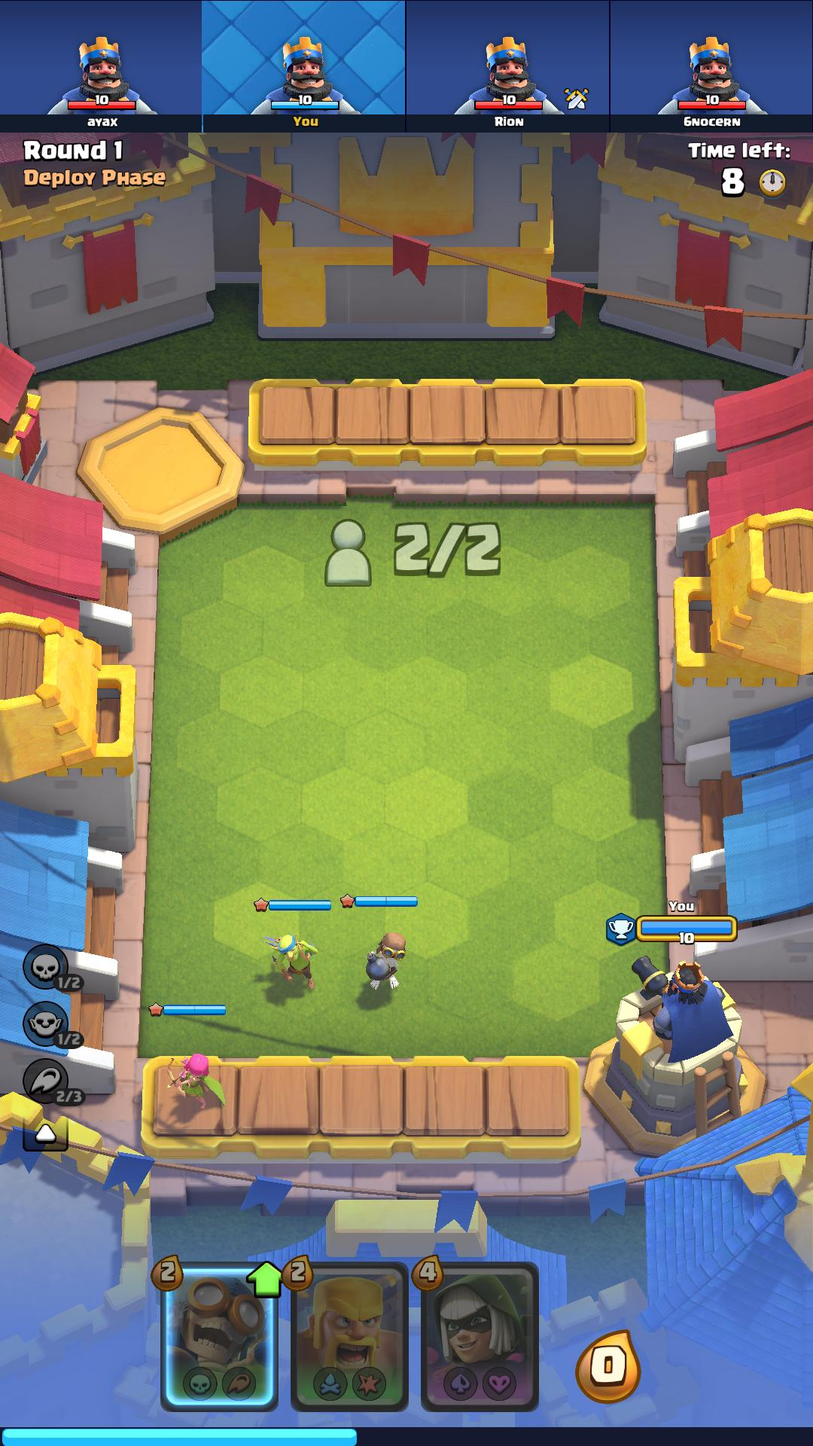archer: (161, 1047, 230, 1111)
bomber: (362, 924, 407, 993)
hand-bandit: (422, 1262, 535, 1406)
hand-barbarian: (295, 1264, 407, 1409)
hand-bomber: (163, 1265, 277, 1410)
spear: (257, 925, 323, 996)
upgrade: (245, 1259, 288, 1299)
